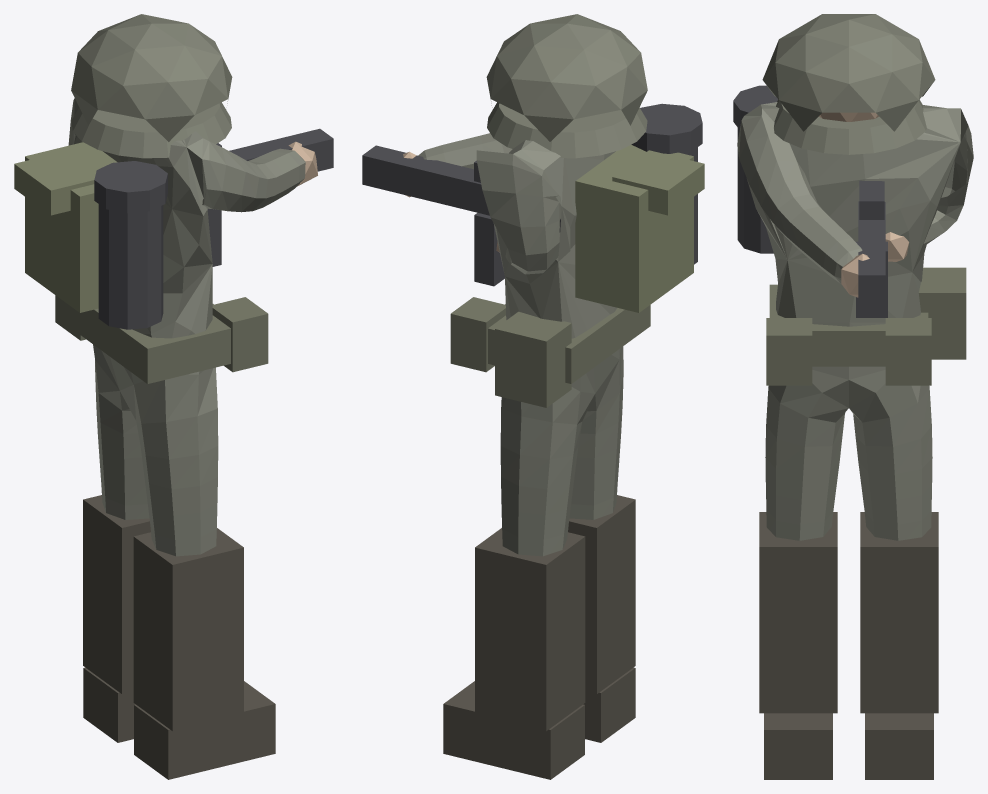
The model's file is trooper_germany.glb.
3 views of the same model, side by side, from view 1: azimuth 30°, elevation 25°; view 2: azimuth 150°, elevation 25°; view 3: azimuth 270°, elevation 25° (orthographic).
Parts seen in each view (by area): view 1: trooper_germany; view 2: trooper_germany; view 3: trooper_germany.
Part boxes in pixels (left/top/right/bottom): trooper_germany: left=14, top=14, right=333, bottom=779; trooper_germany: left=362, top=14, right=704, bottom=779; trooper_germany: left=733, top=14, right=973, bottom=779.
Bounding box in the file's own units: 0.77 × 1.73 × 0.5236.
